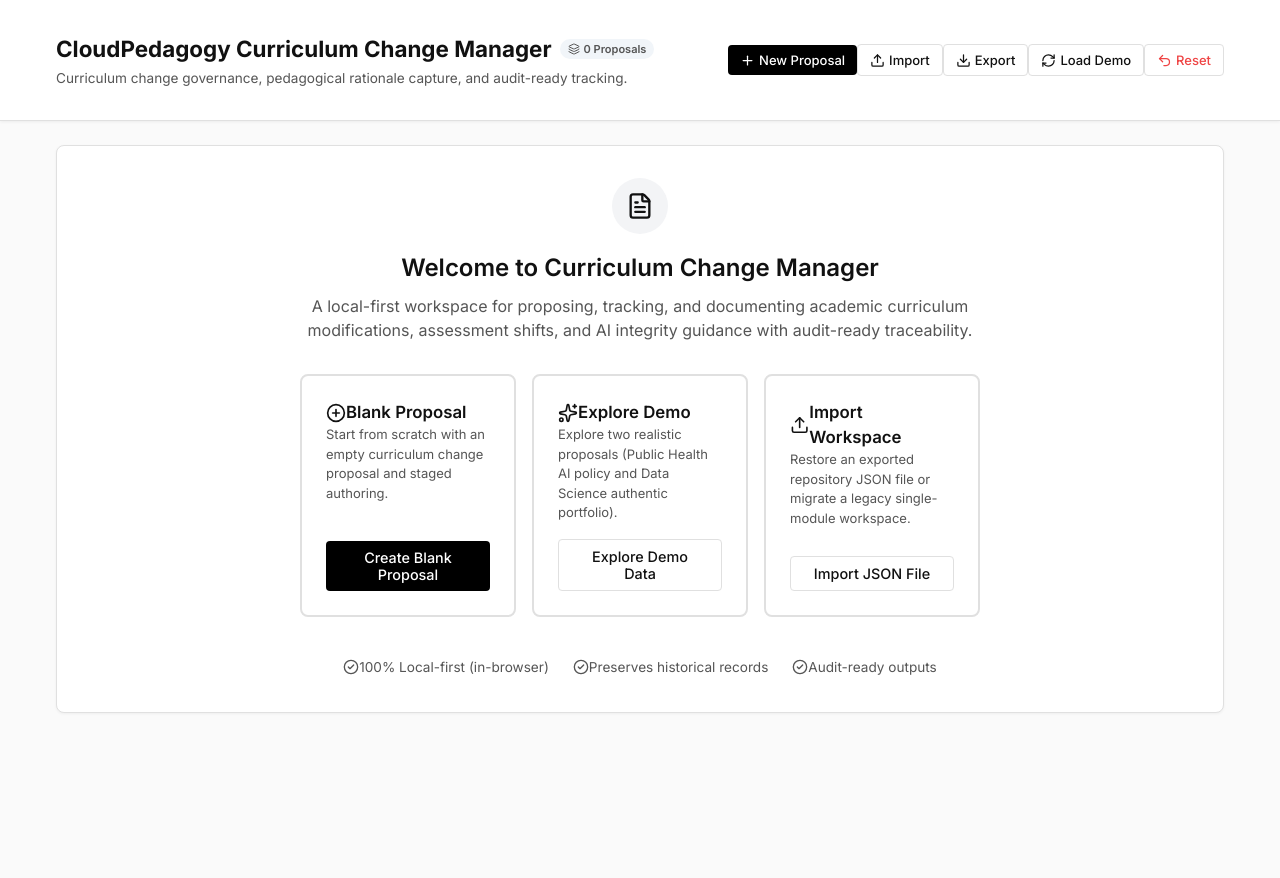
Test: Real-Browser Acceptance Simulation (18 Steps) › Step 7 to 9: Creates a second proposal, switches between proposals, and confirms data remains independent
Create Proposal 1
Click the button "Create Blank Proposal": click(408, 566) x1=326 y1=541 x2=490 y2=591
(page scrolled)
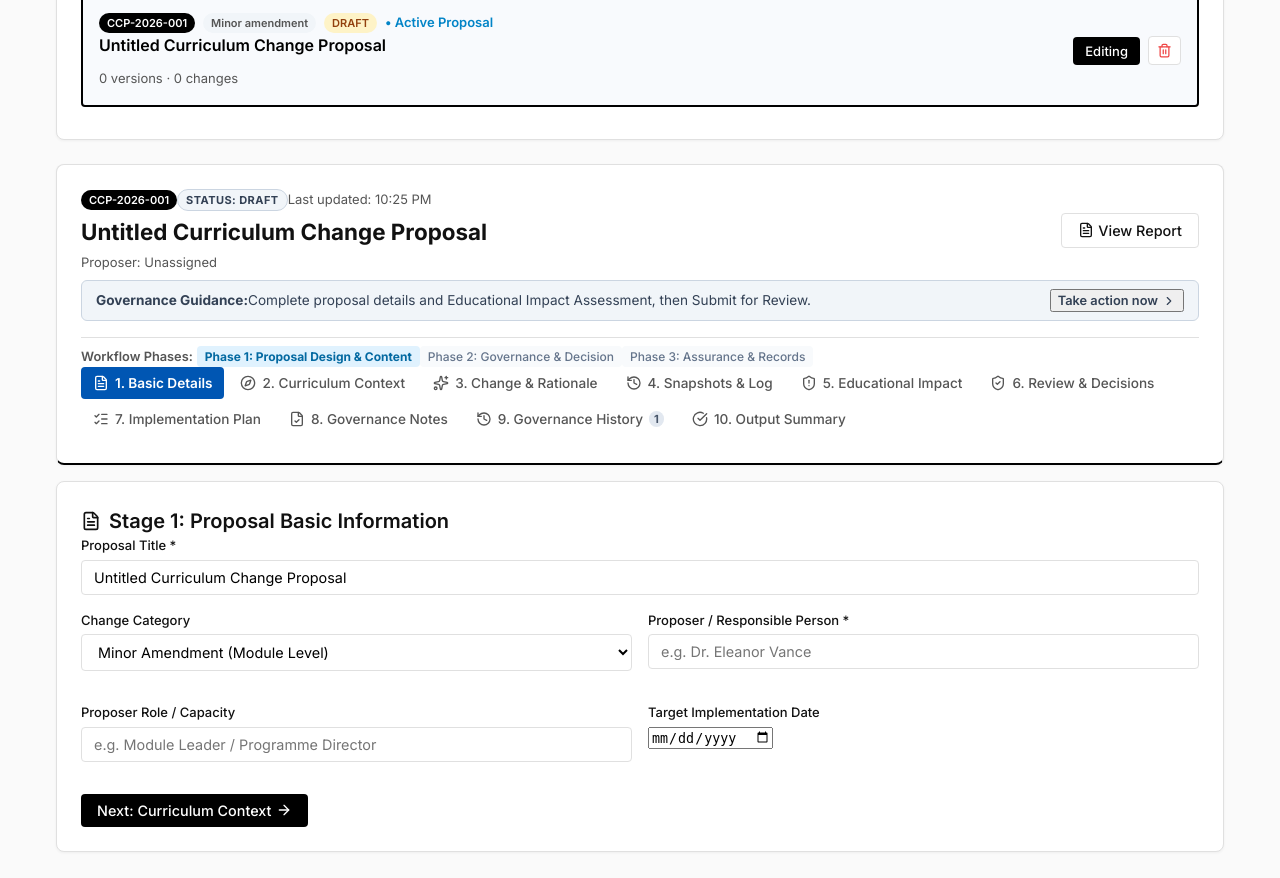
Replace the text in the field labelled "Proposal Title *" with "Proposal 1: AI Ethics": (640, 577) x1=81 y1=560 x2=1199 y2=595
(page scrolled)
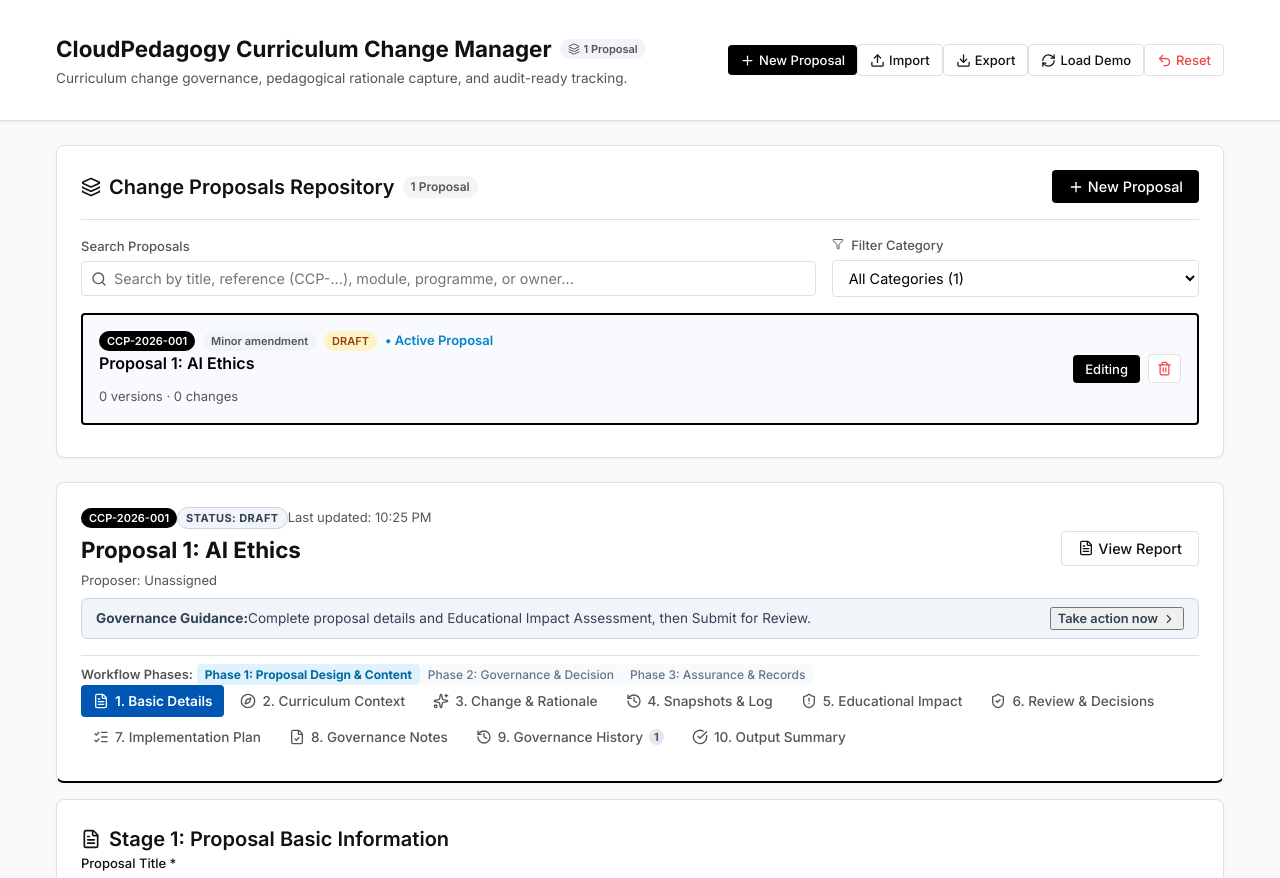
Create Proposal 2
Click the button "New Proposal" in the row of "CloudPedagogy Curriculum Change Manager": click(793, 60) x1=728 y1=45 x2=857 y2=75
(page scrolled)
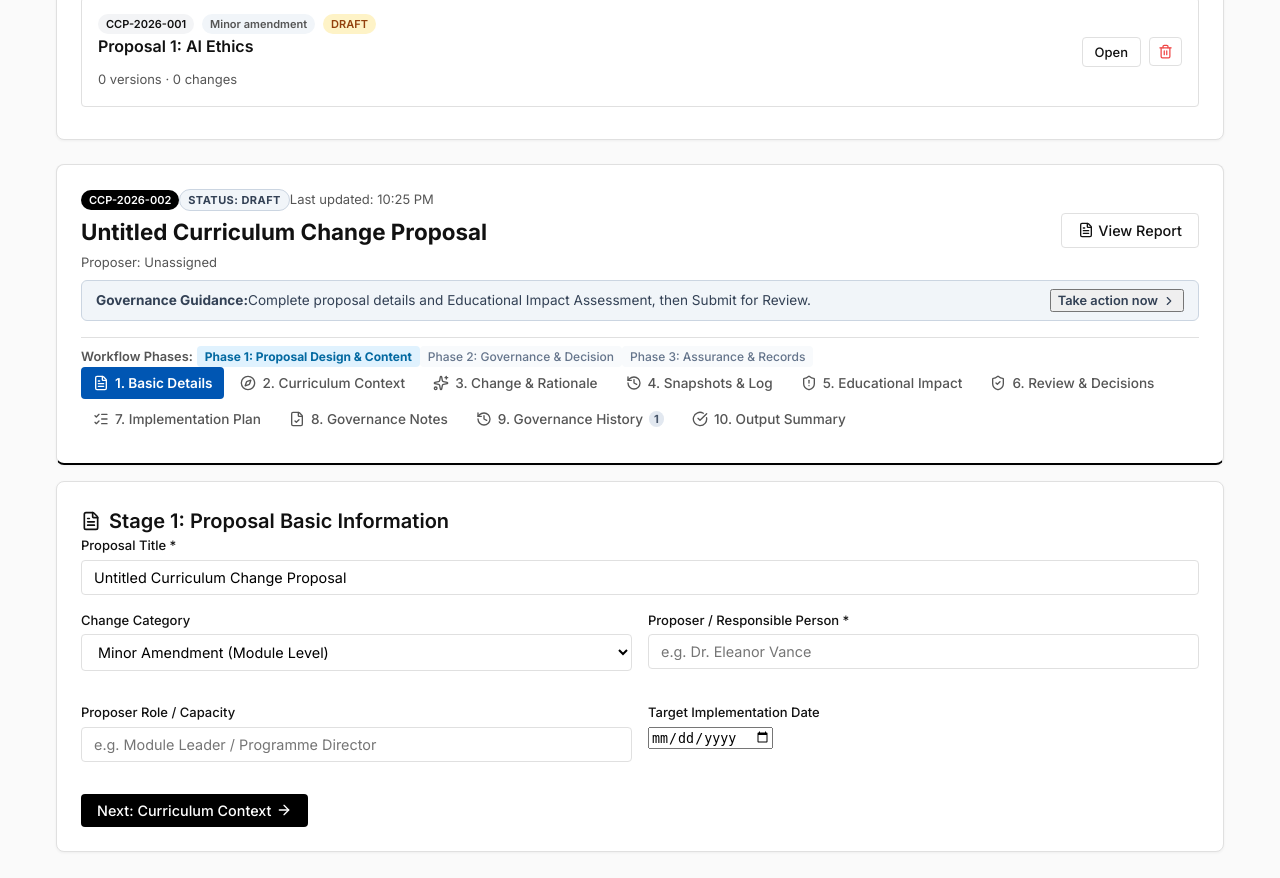
Replace the text in the field labelled "Proposal Title *" with "Proposal 2: Software Testing": (640, 577) x1=81 y1=560 x2=1199 y2=595
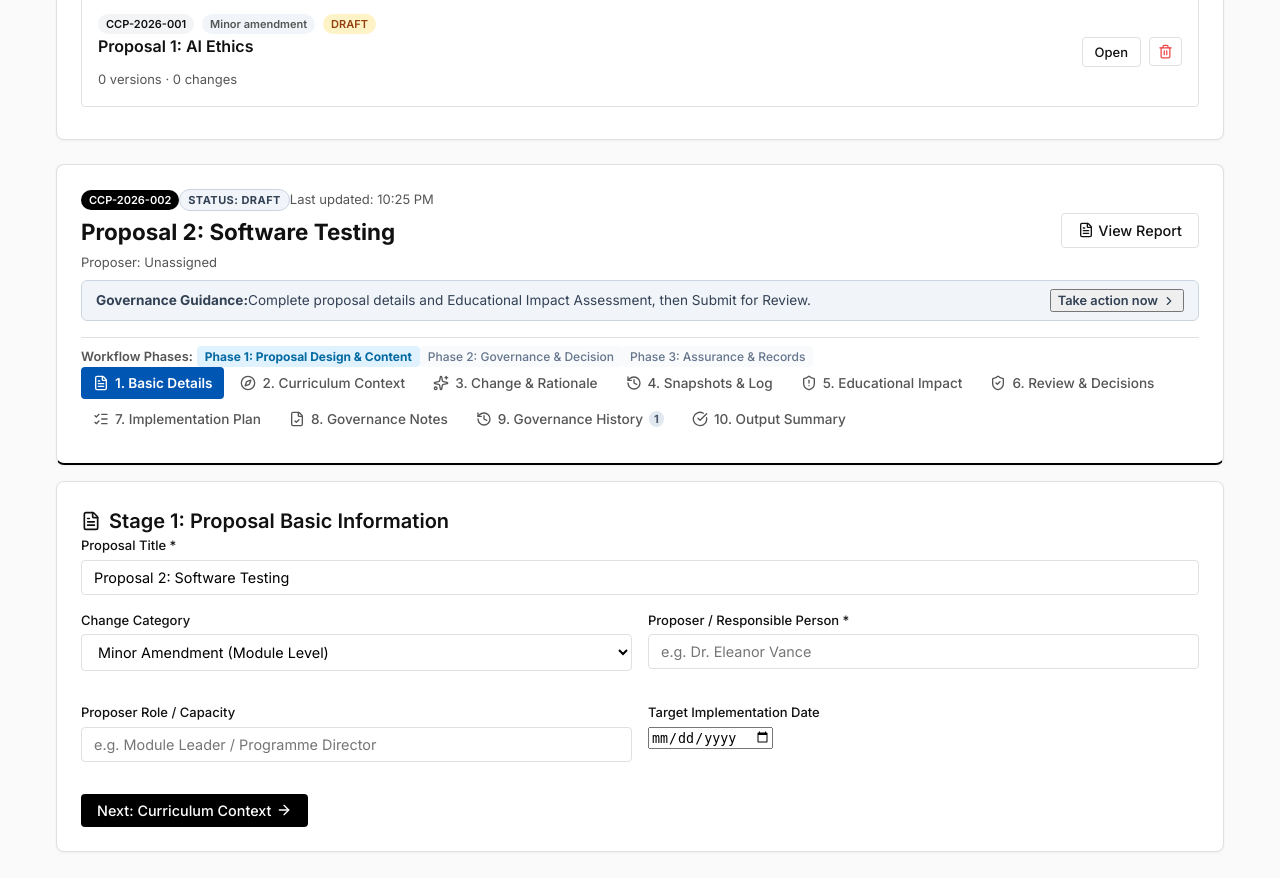
Switch back to Proposal 1
Click the heading "Proposal 1: AI Ethics": click(176, 46) x1=98 y1=36 x2=254 y2=56
(page scrolled)
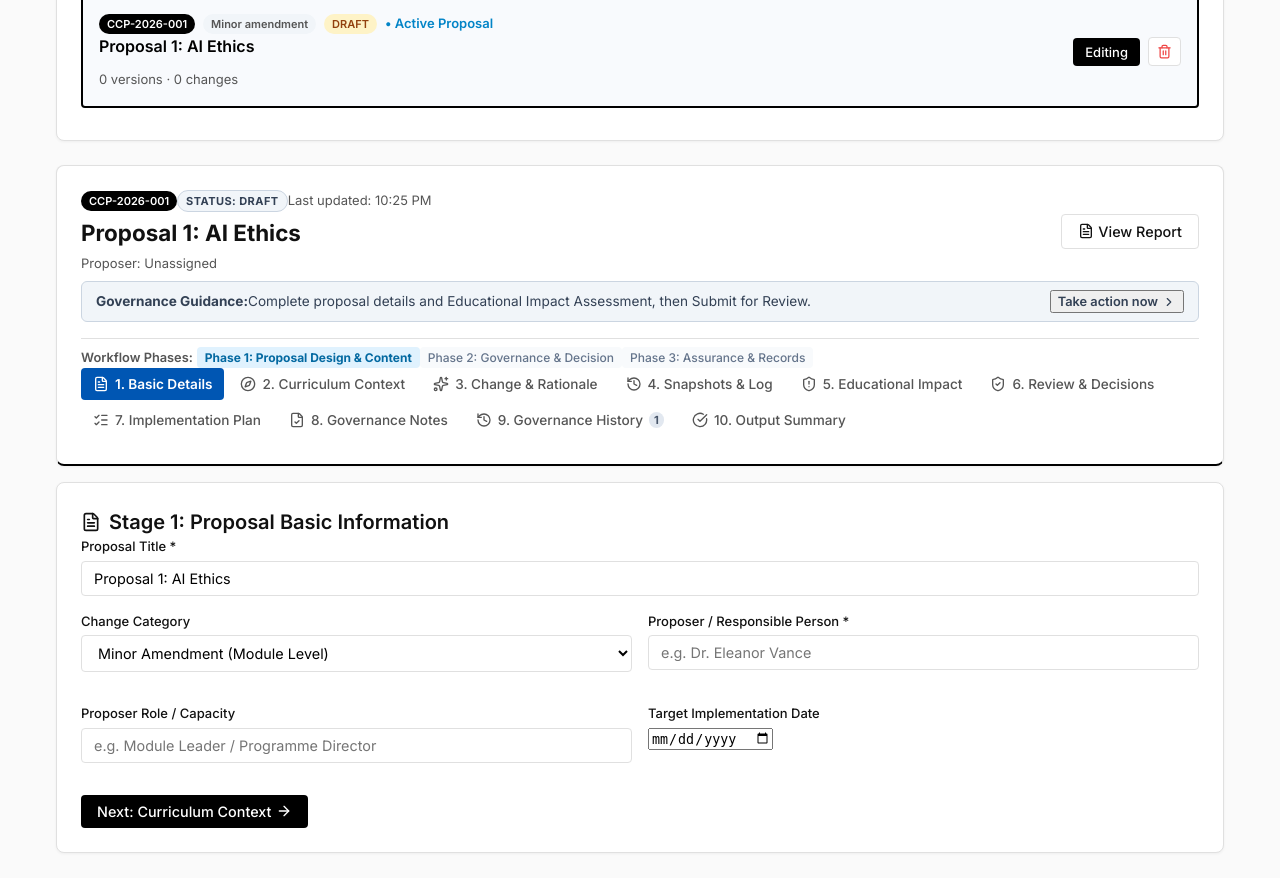
expect the field labelled "Proposal Title *" holds "Proposal 1: AI Ethics": met, box x1=81 y1=561 x2=1199 y2=596
